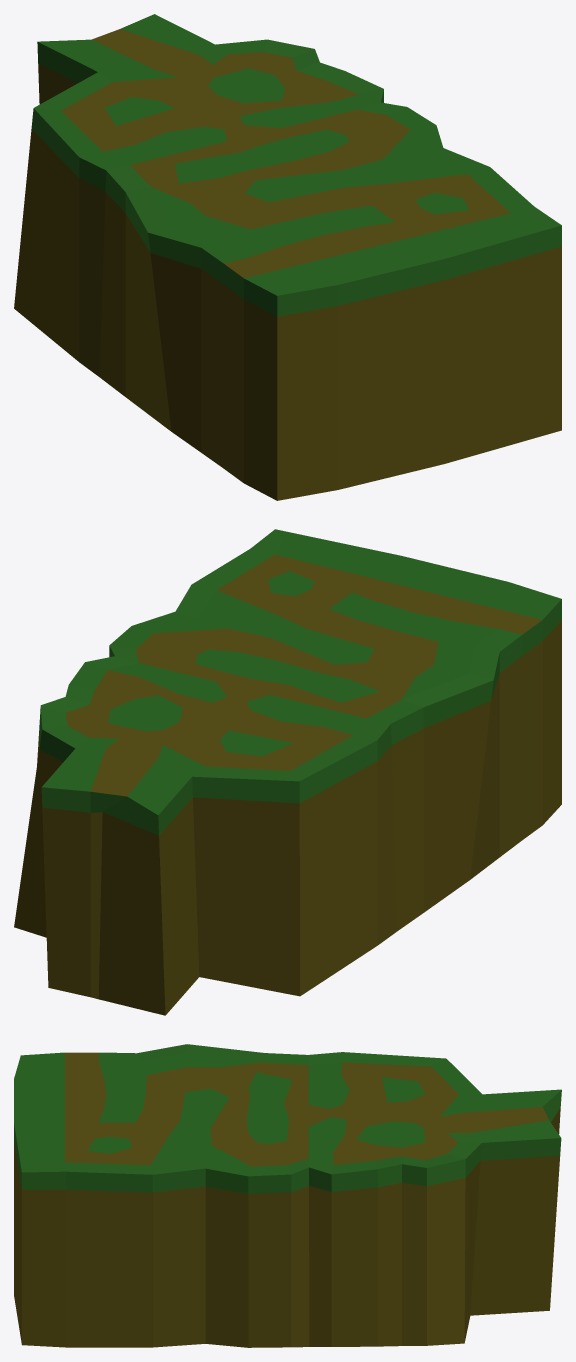
Rendered from terrain3.fbx.
3 views of the same model, one above another, from view 1: azimuth 30°, elevation 25°; view 2: azimuth 150°, elevation 25°; view 3: azimuth 270°, elevation 25° (orthographic). The views are drawn at different scales.
Visible parts, largest first — view 1: Cube; view 2: Cube; view 3: Cube.
Boxes of the visible parts, left/top/right/bottom form: Cube: left=14, top=14, right=561, bottom=500; Cube: left=14, top=529, right=561, bottom=1015; Cube: left=14, top=1044, right=561, bottom=1347.
Bounding box in the file's own units: 1451 × 892 × 2517.
